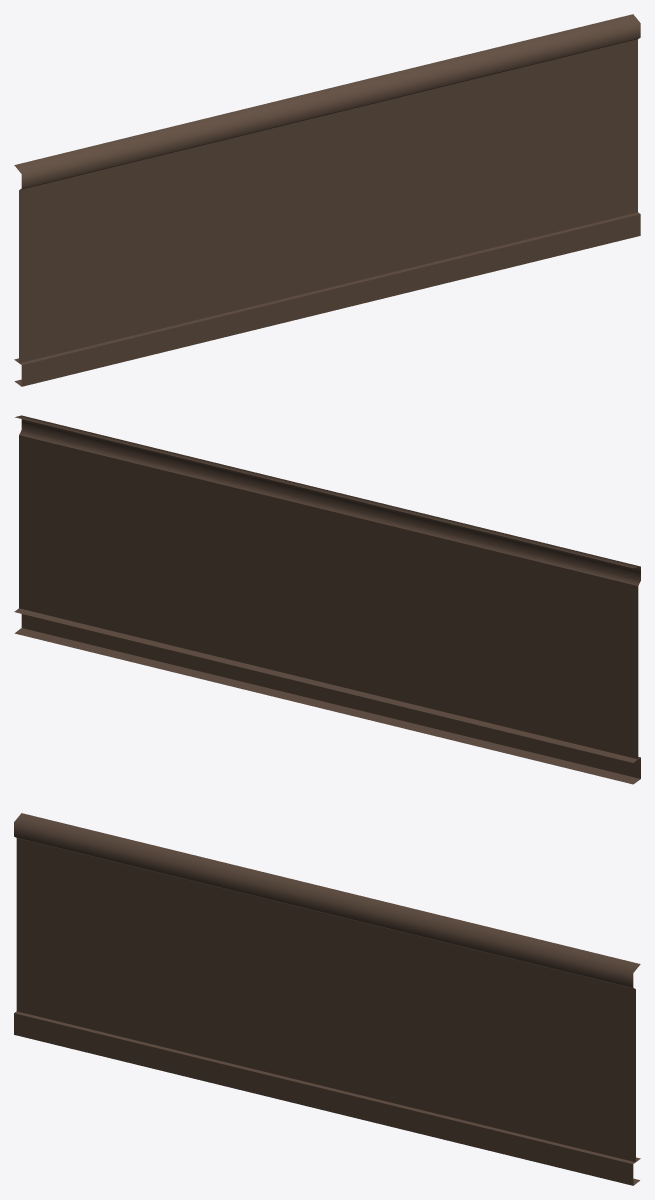
The model's file is DBK_Molding_Bottom_Full.fbx.
The picture shows the model from 3 angles, top to bottom: view 1: azimuth 30°, elevation 25°; view 2: azimuth 150°, elevation 25°; view 3: azimuth 330°, elevation 25°; orthographic projection.
Visible parts, largest first — view 1: DBK_Molding_Bottom_Full; view 2: DBK_Molding_Bottom_Full; view 3: DBK_Molding_Bottom_Full.
Boxes of the visible parts, box(x1,y1,x2,y2) form: DBK_Molding_Bottom_Full: box(14, 14, 640, 386); DBK_Molding_Bottom_Full: box(14, 415, 640, 784); DBK_Molding_Bottom_Full: box(14, 813, 640, 1185).
Size of the model in its own units: 300 by 100 by 6.52.
